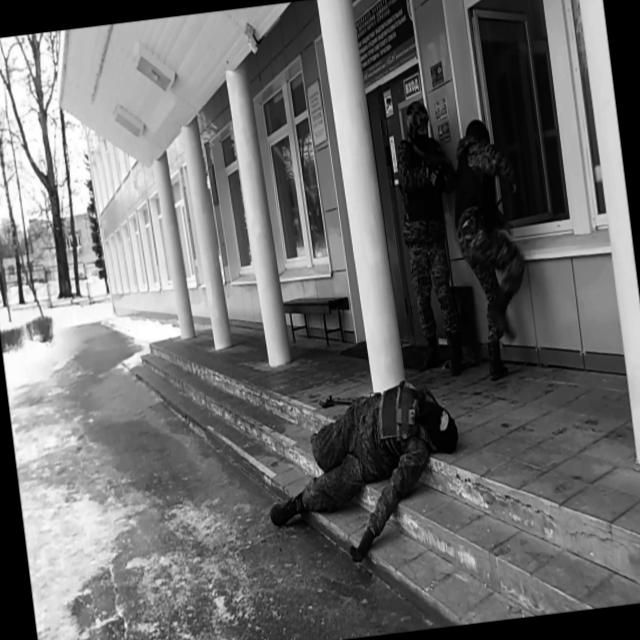gun: (408, 136, 452, 180)
person: (256, 372, 473, 574), (444, 112, 540, 381)
person with a gun: (388, 97, 481, 381)
